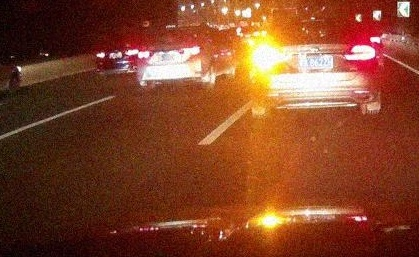L_light: (254, 46, 285, 64), (138, 51, 151, 58)
R_light: (344, 44, 377, 61), (184, 47, 200, 56)
T_light: (302, 21, 322, 24), (176, 30, 185, 33)
night-left: (249, 18, 381, 120)
night-no: (137, 26, 207, 90)
